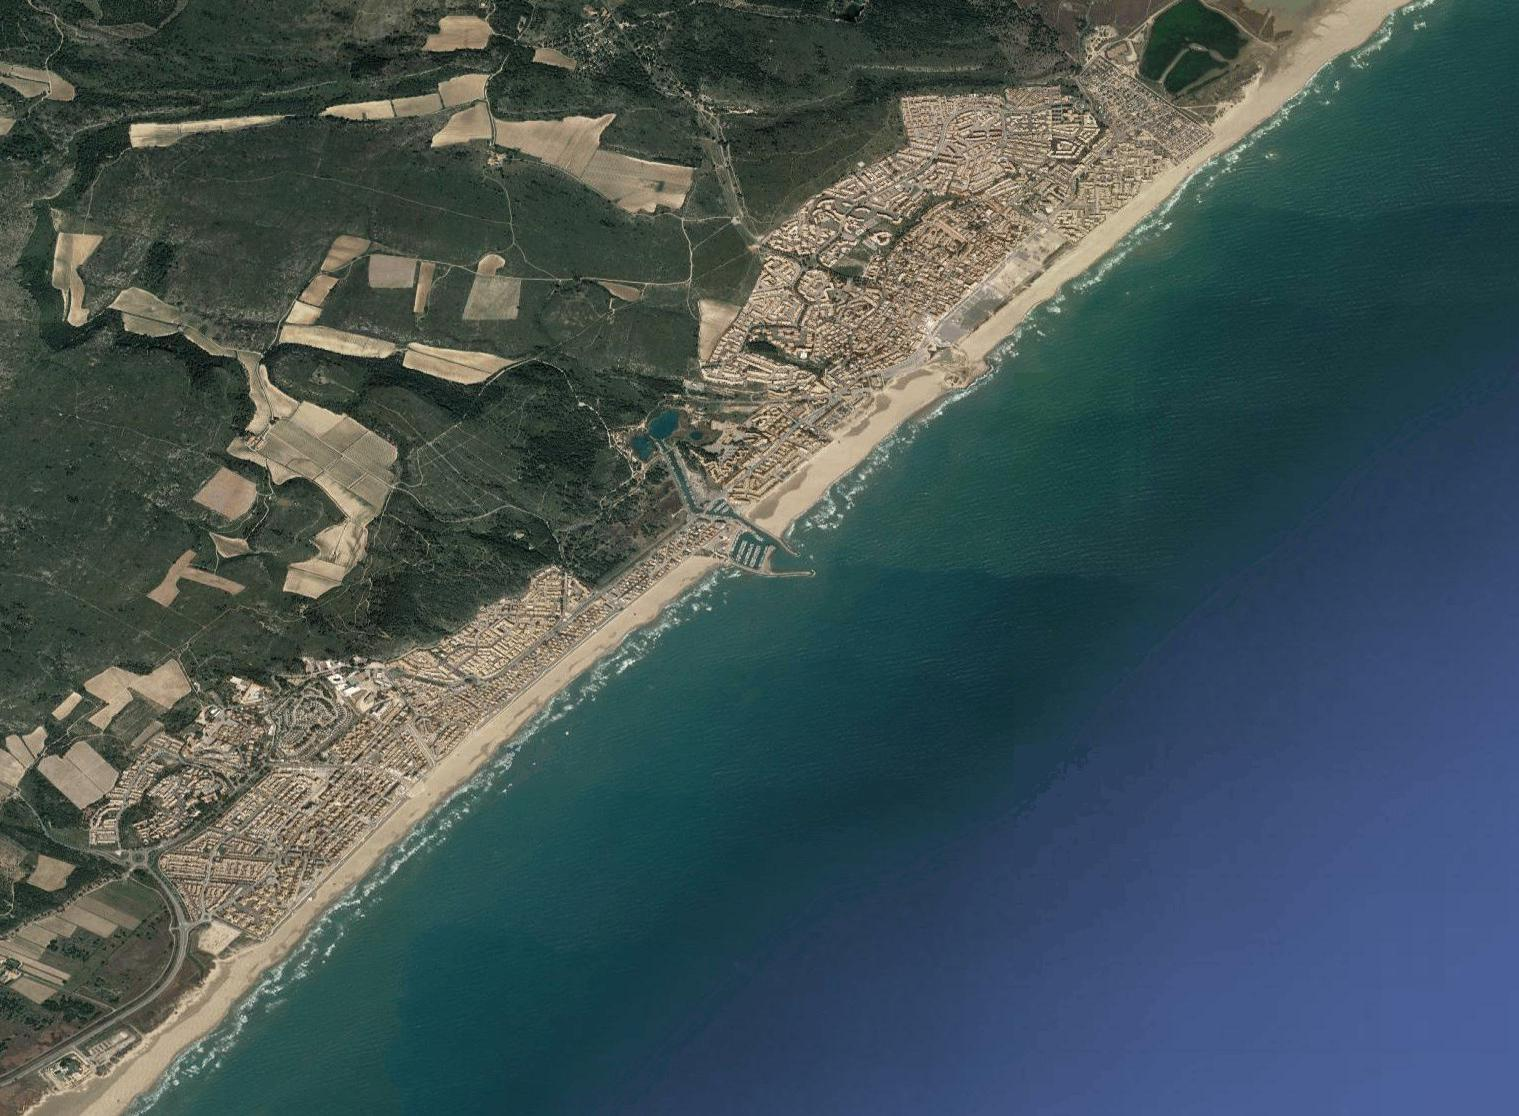harbor: (711, 505, 822, 600)
